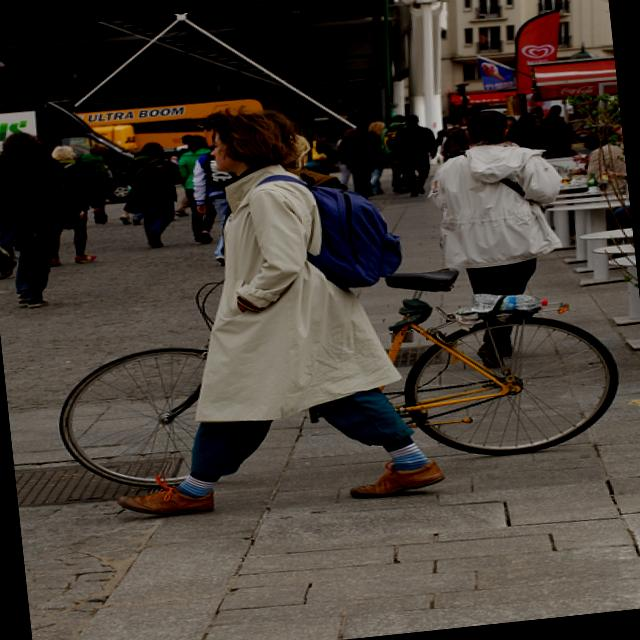Vehicle: (0, 90, 141, 217)
